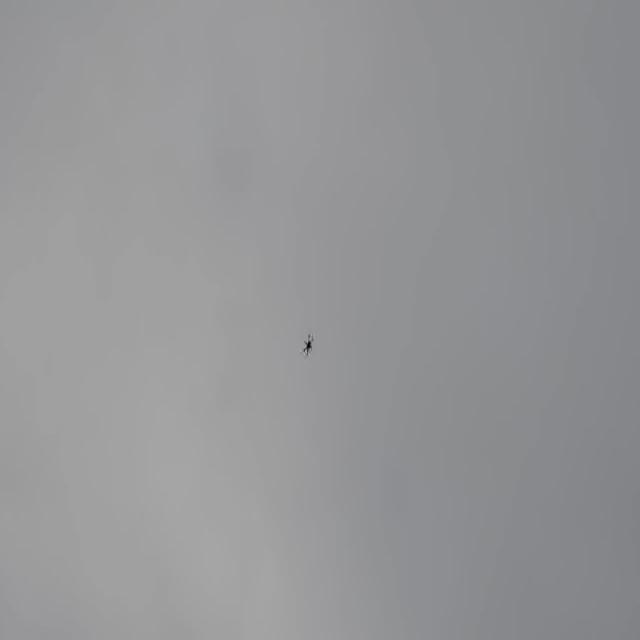drone: (300, 330, 316, 360)
